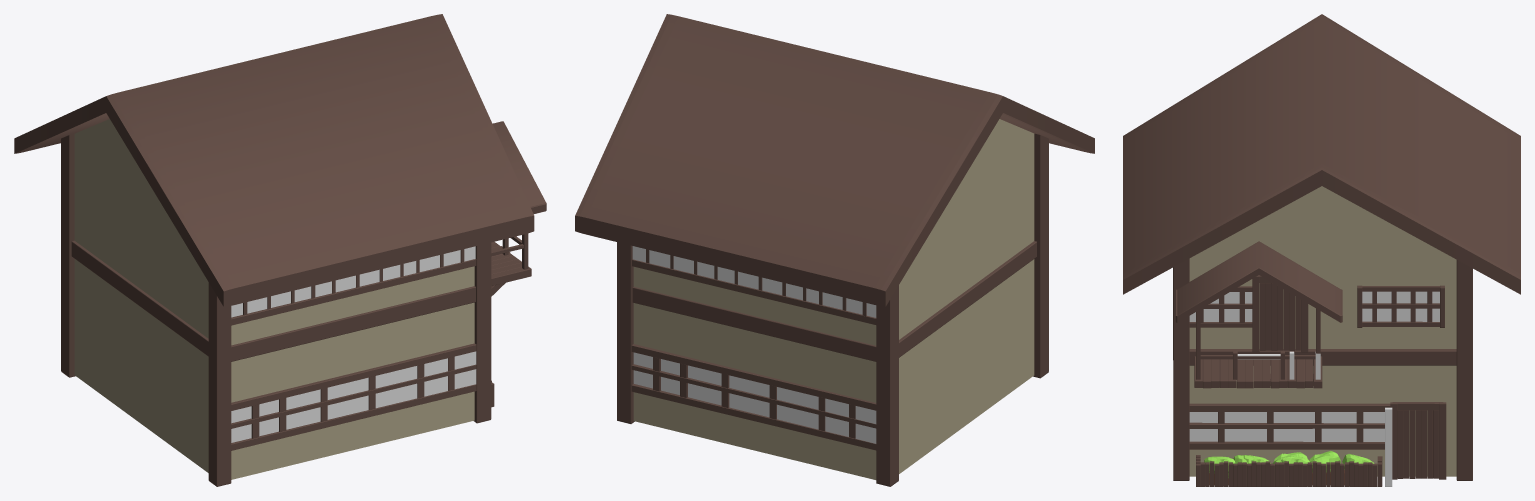
3 renders of one model, left to right at view 1: azimuth 30°, elevation 25°; view 2: azimuth 150°, elevation 25°; view 3: azimuth 270°, elevation 25°, orthographic. The views are drawn at different scales.
Visible parts, largest first — view 1: Cube.010, Cube, Plane.009, Cube.003, Cube.008, Cube.005, Cube.002, Plane.010, Cube.007, Cube.264, Cube.255, Cube.265 (+2 smaller); view 2: Cube.010, Cube, Plane.011, Cube.005, Cube.009, Cube.003, Cube.004, Plane.012, Cube.007, Cube.078, Cube.077, Cube.032 (+1 smaller); view 3: Cube.010, Cube, Cube.148, Plane.006, Cube.004, Cube.002, Cube.006, Cube.161, Cube.160, Plane.008, Cube.155, Plane.007 (+14 smaller).
Part boxes in pixels (<box>): Cube.010: <box>14,14,534,306</box>; Cube: <box>74,119,474,479</box>; Plane.009: <box>231,351,476,442</box>; Cube.003: <box>208,282,231,486</box>; Cube.008: <box>231,286,475,361</box>; Cube.005: <box>61,134,75,377</box>; Cube.002: <box>474,242,491,423</box>; Plane.010: <box>231,246,475,317</box>; Cube.007: <box>71,240,208,356</box>; Cube.264: <box>231,343,476,410</box>; Cube.255: <box>231,259,476,325</box>; Cube.265: <box>231,384,476,450</box>; Cube.010: <box>575,14,1094,306</box>; Cube: <box>633,119,1034,479</box>; Plane.011: <box>633,352,876,443</box>; Cube.005: <box>876,285,898,486</box>; Cube.009: <box>632,287,876,361</box>; Cube.003: <box>1033,133,1048,378</box>; Cube.004: <box>617,242,634,423</box>; Plane.012: <box>632,246,876,317</box>; Cube.007: <box>899,241,1036,357</box>; Cube.078: <box>631,344,876,410</box>; Cube.077: <box>631,384,876,450</box>; Cube.032: <box>632,259,876,324</box>; Cube.010: <box>1123,14,1520,294</box>; Cube: <box>1189,186,1456,476</box>; Cube.148: <box>1175,241,1342,322</box>; Plane.006: <box>1189,412,1384,441</box>; Cube.004: <box>1456,260,1472,480</box>; Cube.002: <box>1173,258,1189,480</box>; Cube.006: <box>1189,349,1456,365</box>; Cube.161: <box>1189,403,1390,411</box>; Cube.160: <box>1189,441,1384,449</box>; Plane.008: <box>1362,291,1439,321</box>; Cube.155: <box>1189,422,1384,428</box>; Plane.007: <box>1189,292,1252,321</box>.
Size of the model in its own units: 4989 by 4482 by 4966.
